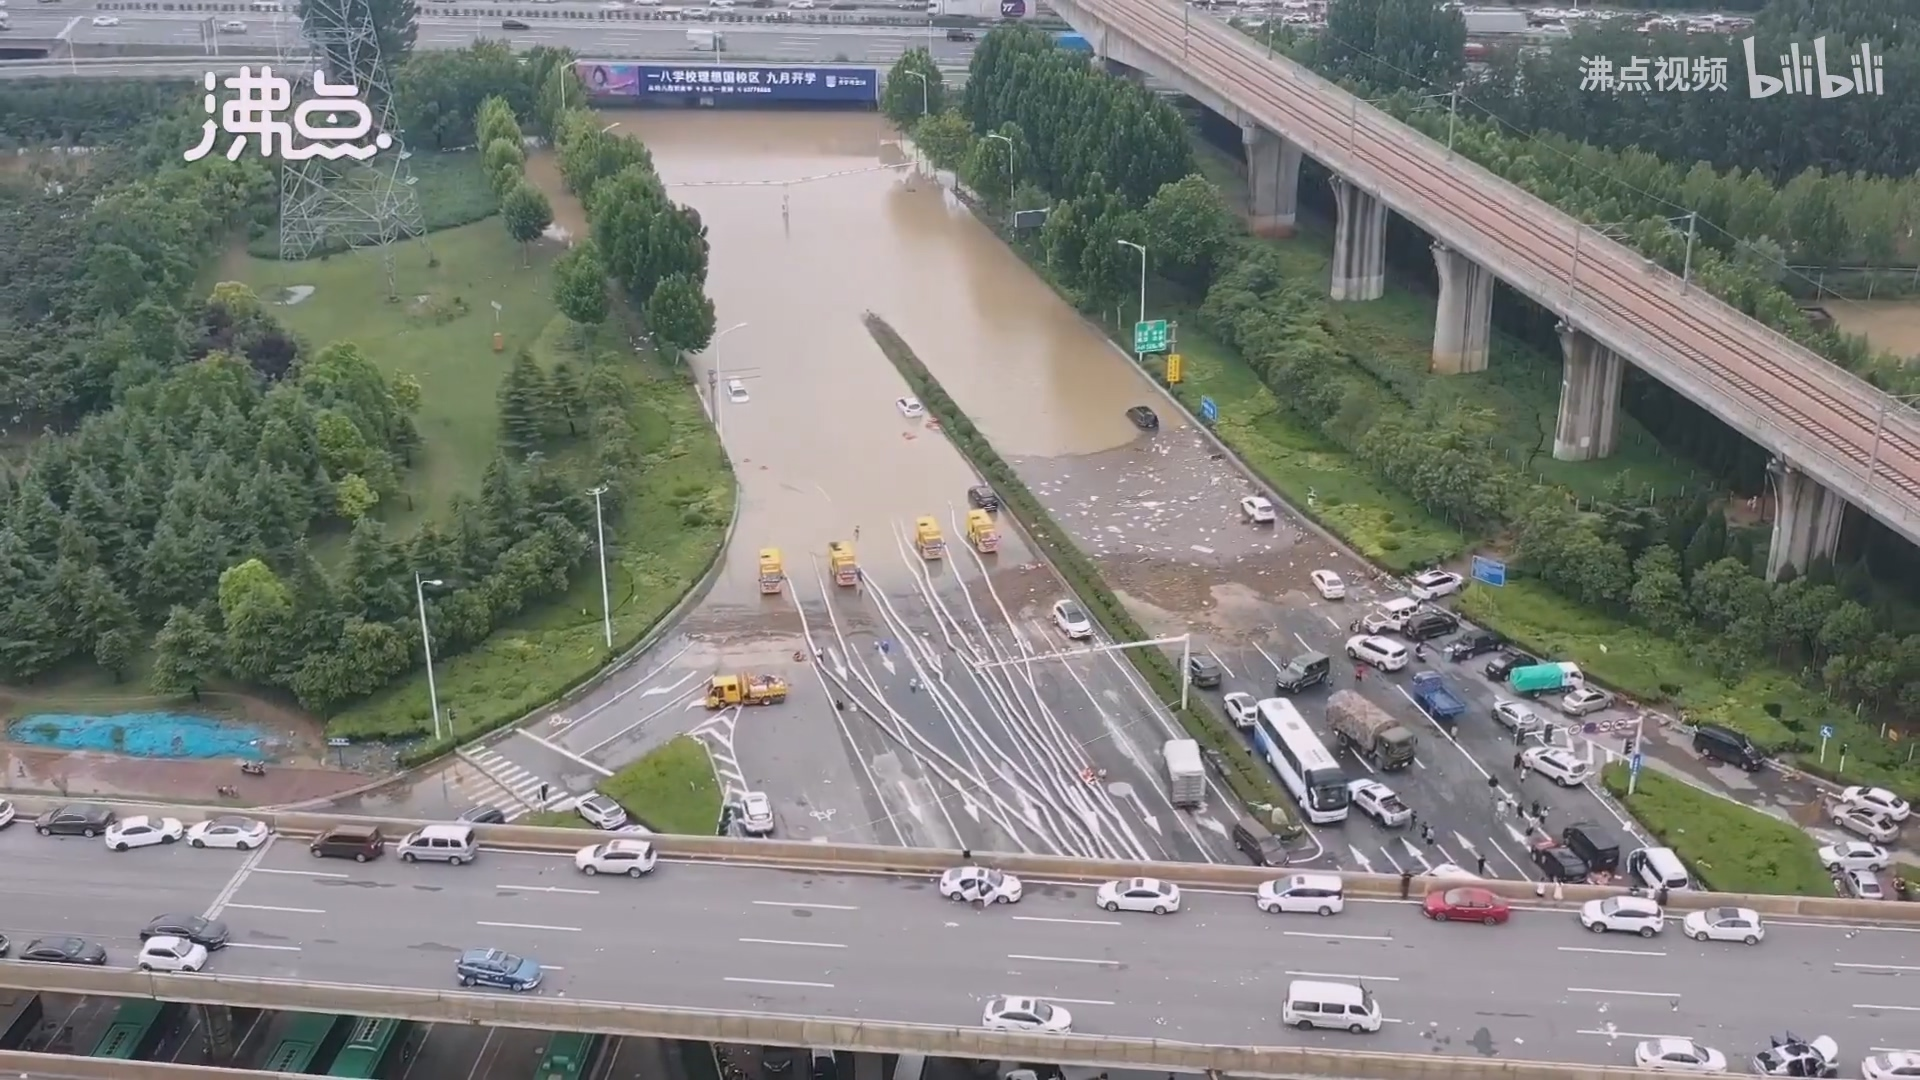puddle: (650, 132, 1150, 582)
